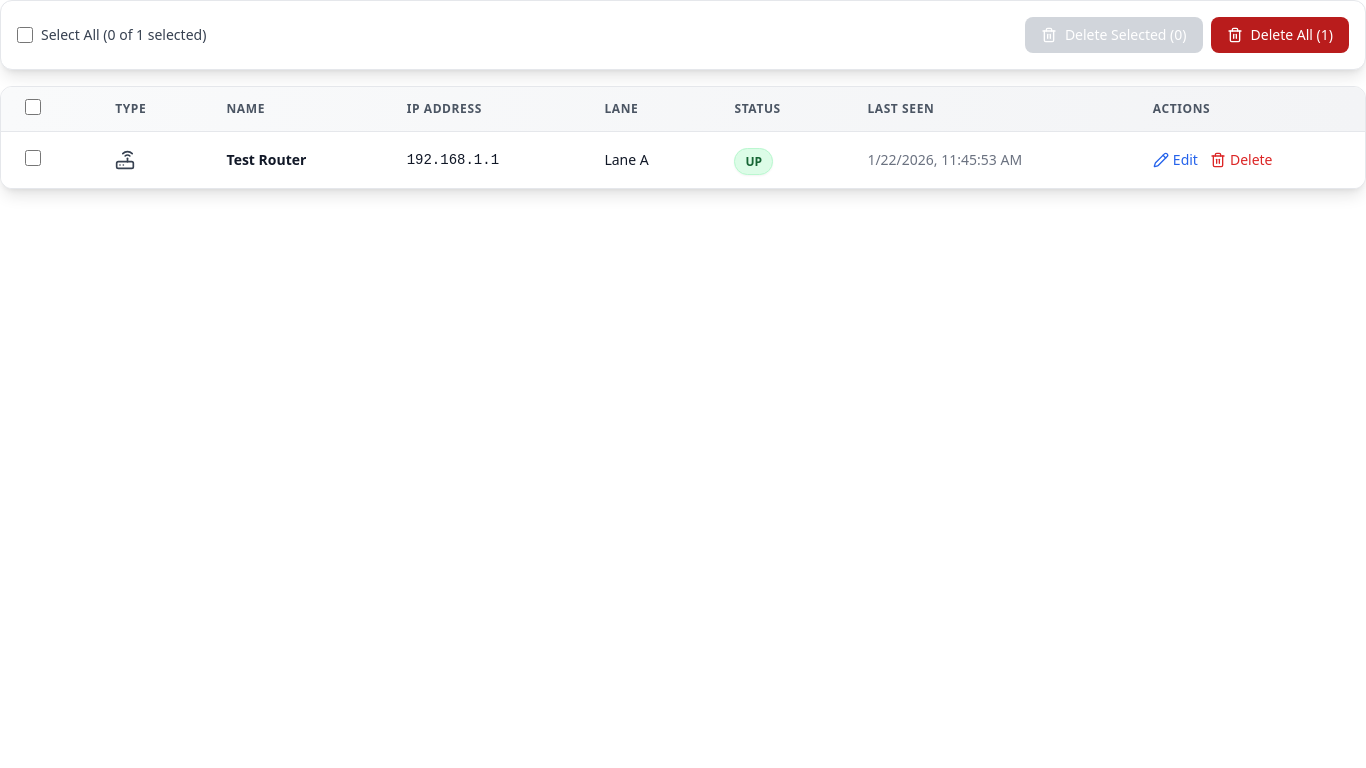
Edit and Delete Button Visibility › should open edit modal when edit button is clicked
Click the button "Edit" at (1175, 160), box [1153,150,1198,170]
(page scrolled)
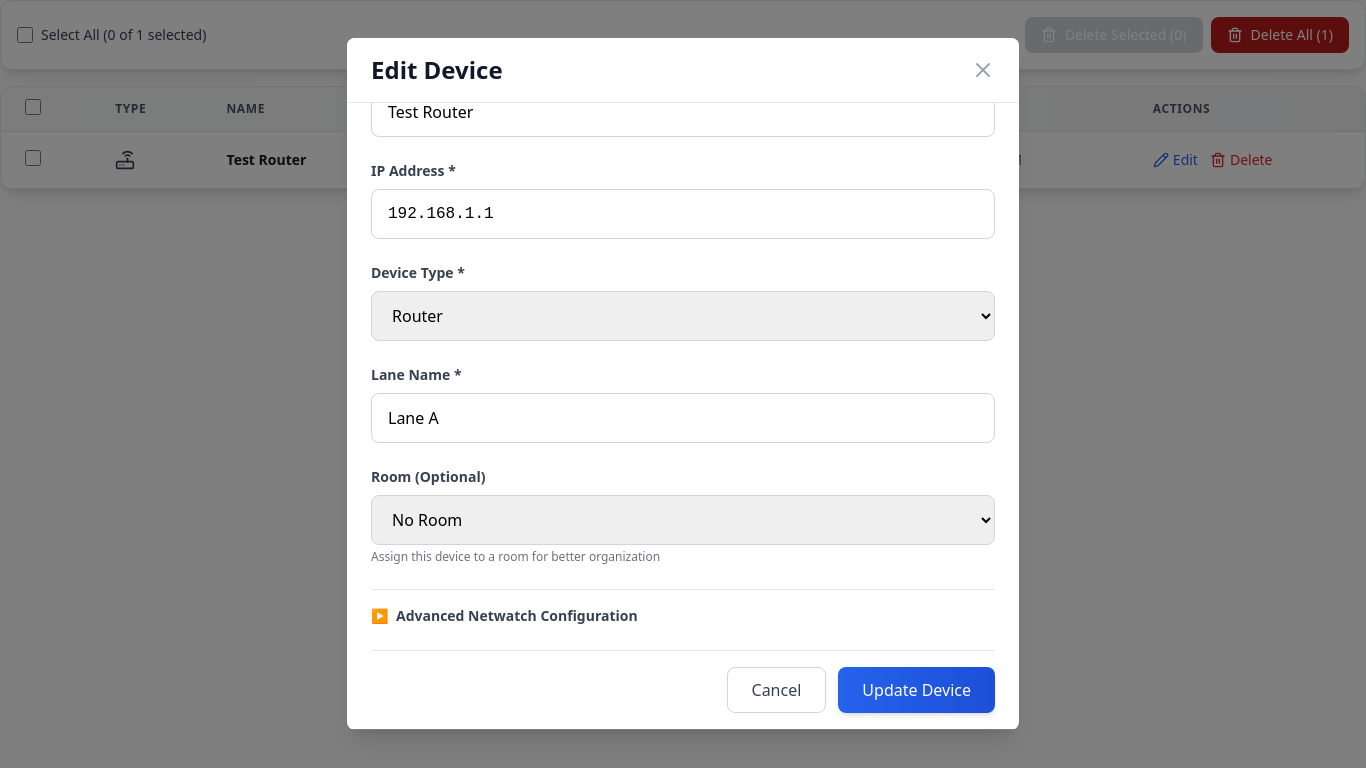
expect the heading "Edit Device" is shown: met, box [371,54,503,86]
expect the button "Update Device" is shown: met, box [838,667,995,713]
